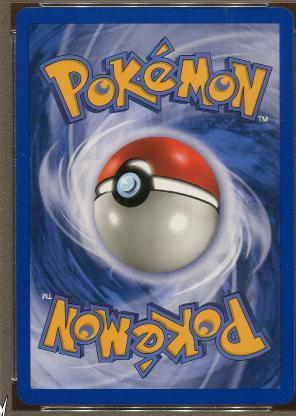Card: (16, 6, 294, 406)
Scratch: (20, 152, 24, 156)
